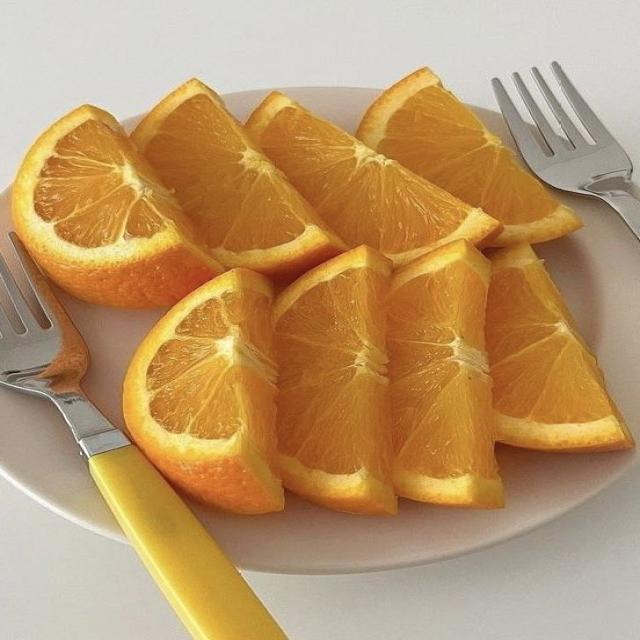orange: (247, 93, 500, 264), (132, 80, 345, 279), (13, 106, 222, 306), (356, 68, 580, 245), (123, 269, 284, 513), (274, 247, 396, 513), (388, 240, 504, 507), (486, 244, 633, 451)
